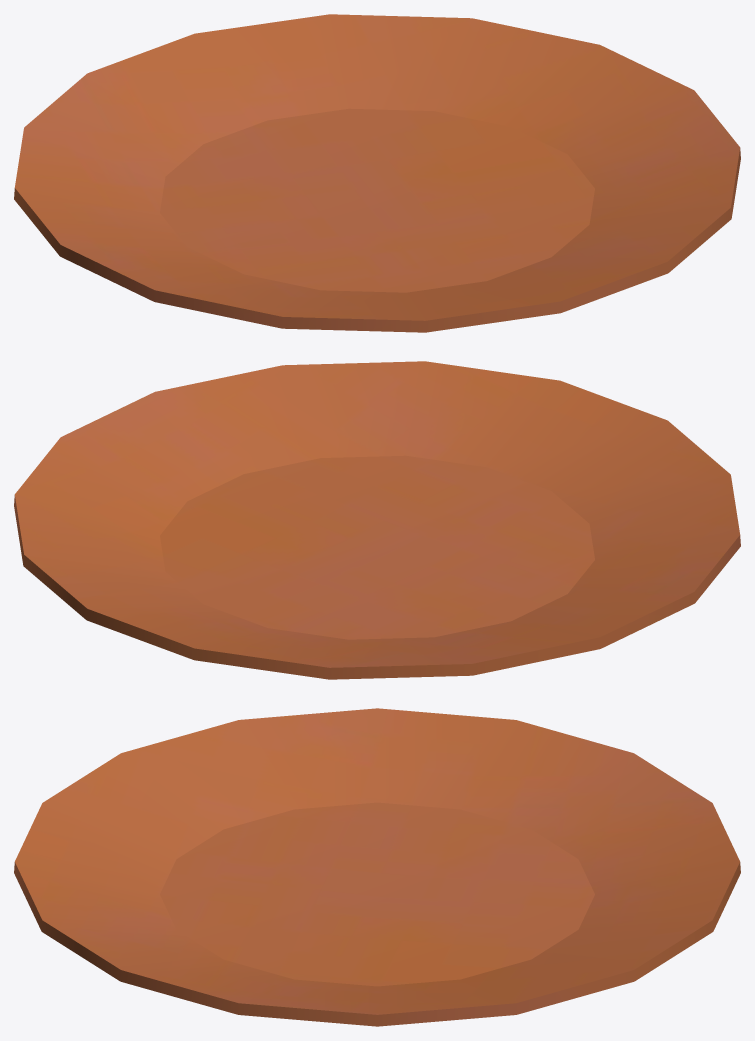
File: Dw_Plate.glb
3 renders of one model, top to bottom at view 1: azimuth 30°, elevation 25°; view 2: azimuth 150°, elevation 25°; view 3: azimuth 270°, elevation 25°, orthographic.
Visible parts, largest first — view 1: Dw_Plate; view 2: Dw_Plate; view 3: Dw_Plate.
Part boxes in pixels (x1,y1,x2,y2): Dw_Plate: [14, 14, 740, 332]; Dw_Plate: [14, 361, 740, 679]; Dw_Plate: [14, 708, 740, 1026].
Bounding box in the file's own units: 0.2205 × 0.016 × 0.2205.
Materials: 1 (1 with a texture image).
